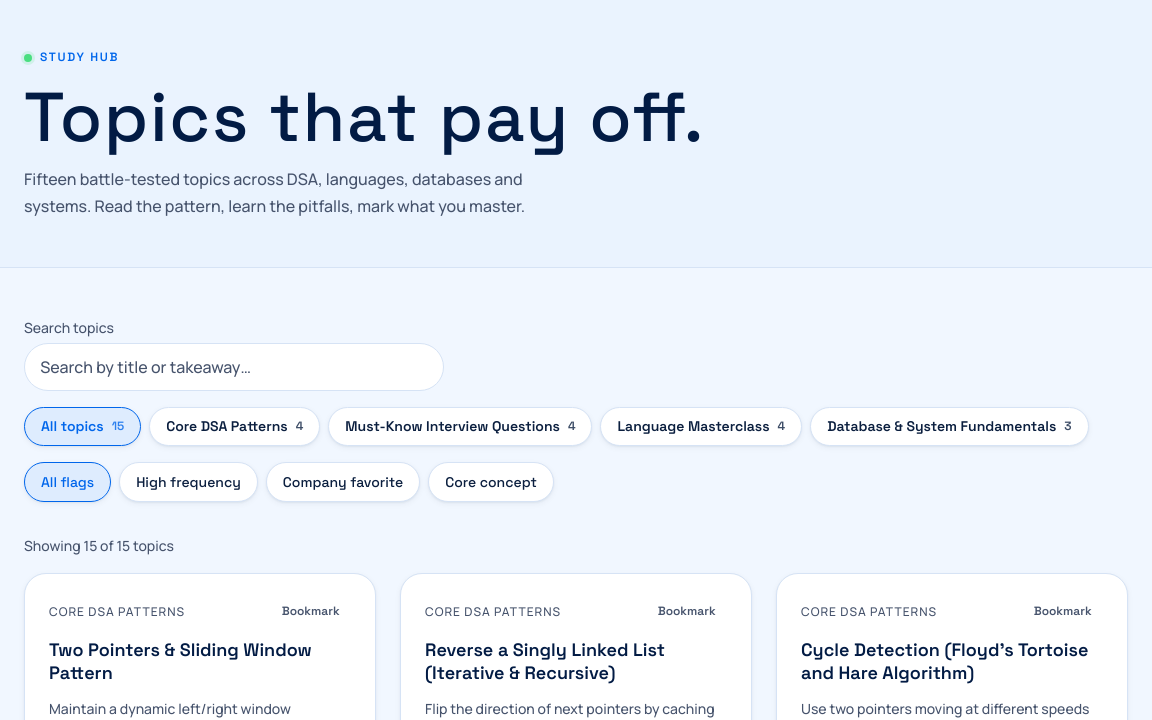
StudyPage toast feedback › shows the right toast when a card is toggled twice
What coordinates should you click on to do the following:
click the 1st button "Bookmark "
I would click on:
 (311, 612)
Its box is [270,598,351,626].
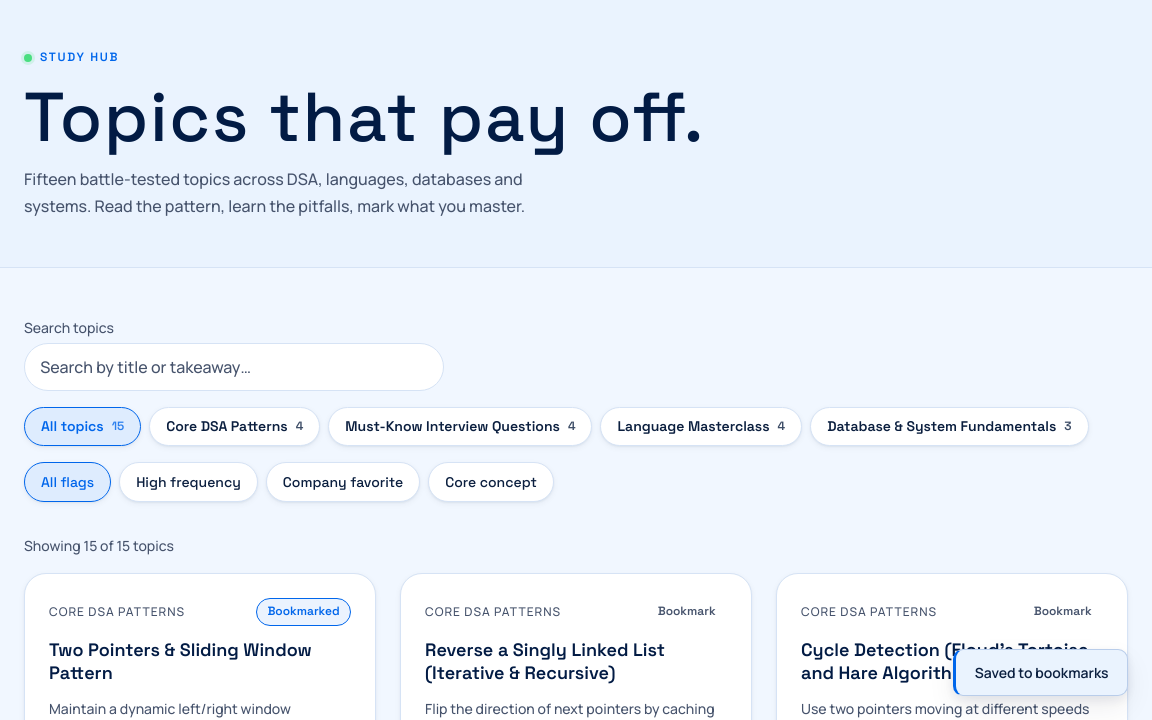
Check: the text "Saved to bookmarks" is shown, box [953,648,1128,696]
What coordinates should you click on to do the following:
click the button with aria-label "Bookmark "
I would click on:
 (304, 612)
Its box is [256,598,351,626].
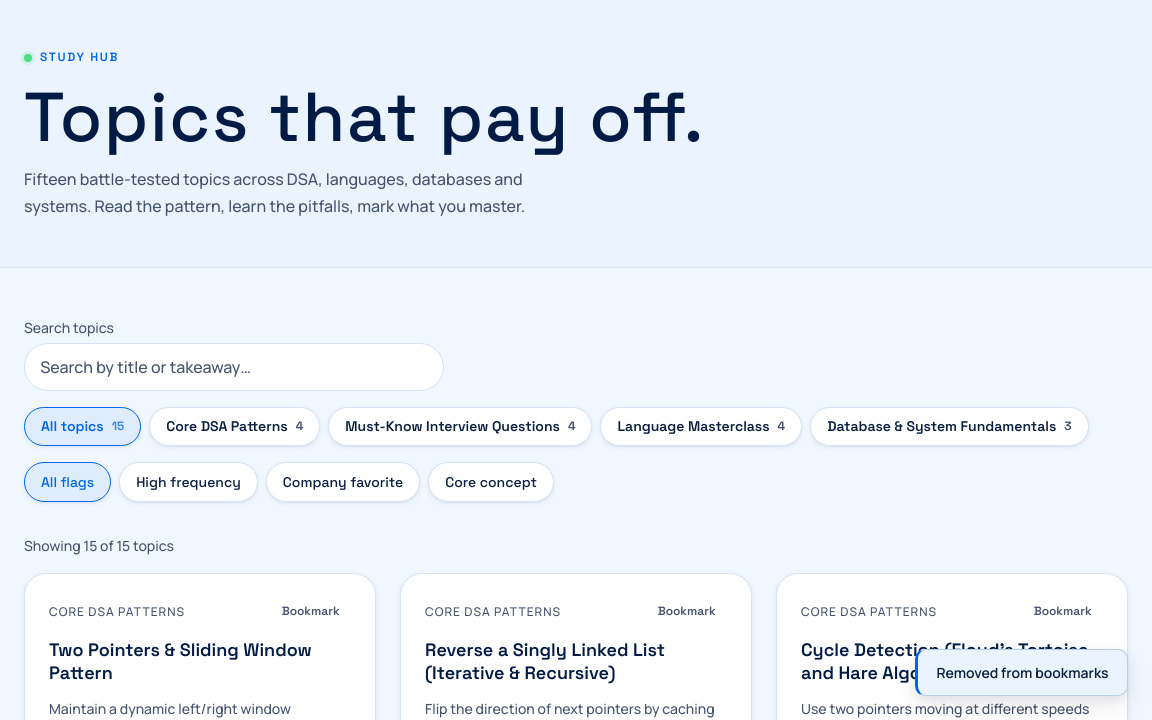
Check: the text "Removed from bookmarks" is shown, box [915,648,1128,696]
